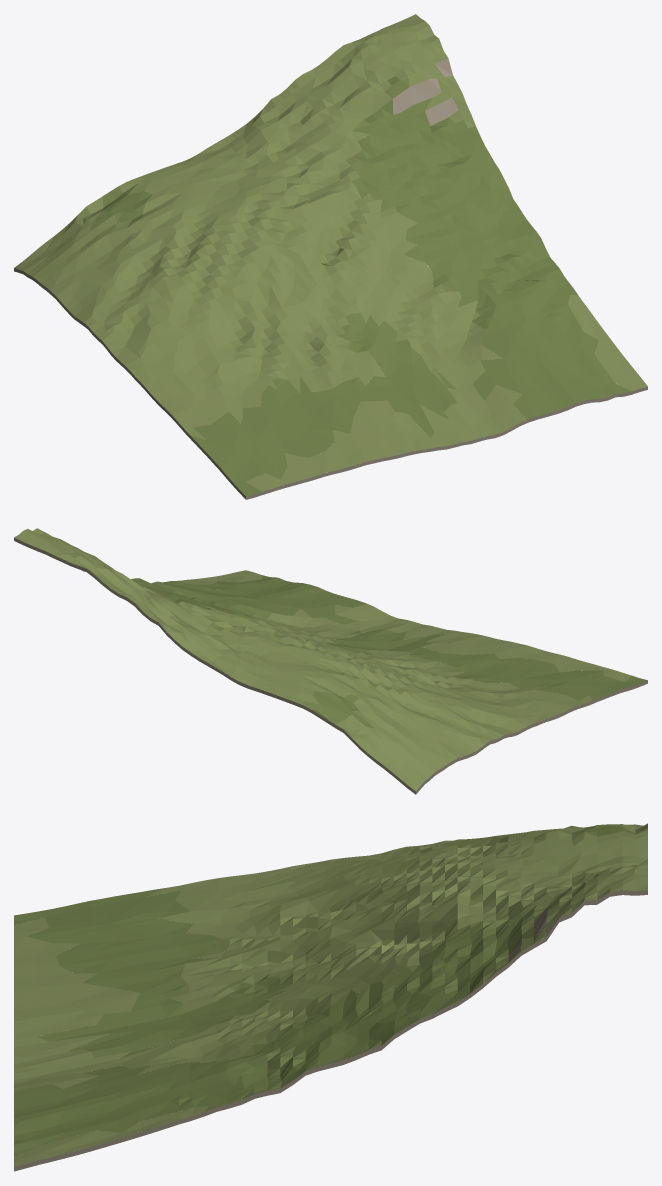
Rendered from parca_+4_-7-uzak.glb.
3 views of the same model, one above another, from view 1: azimuth 30°, elevation 25°; view 2: azimuth 150°, elevation 25°; view 3: azimuth 270°, elevation 25° (orthographic). The views are drawn at different scales.
Visible parts, largest first — view 1: parca_+4_-7_arazi_uzak; view 2: parca_+4_-7_arazi_uzak; view 3: parca_+4_-7_arazi_uzak.
Boxes of the visible parts, bbox=[...] form: parca_+4_-7_arazi_uzak: bbox=[14, 14, 647, 499]; parca_+4_-7_arazi_uzak: bbox=[14, 528, 647, 794]; parca_+4_-7_arazi_uzak: bbox=[14, 823, 647, 1171].
Bounding box in the file's own units: 1000 × 518 × 1000.
